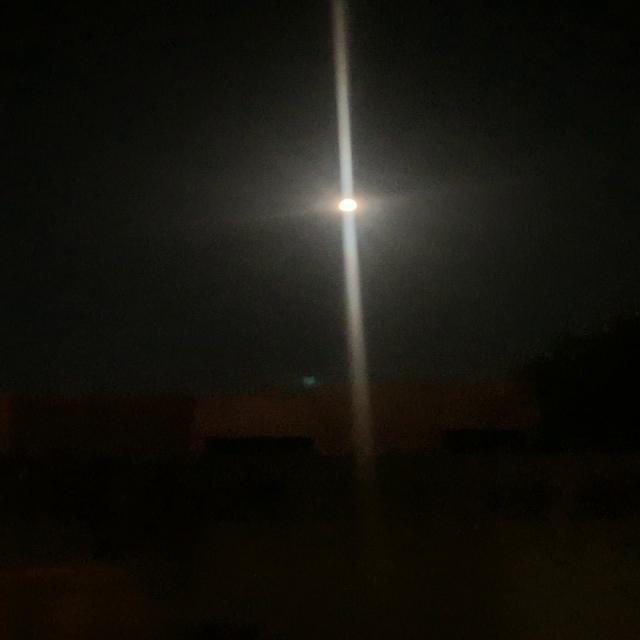moon: (318, 190, 379, 223)
